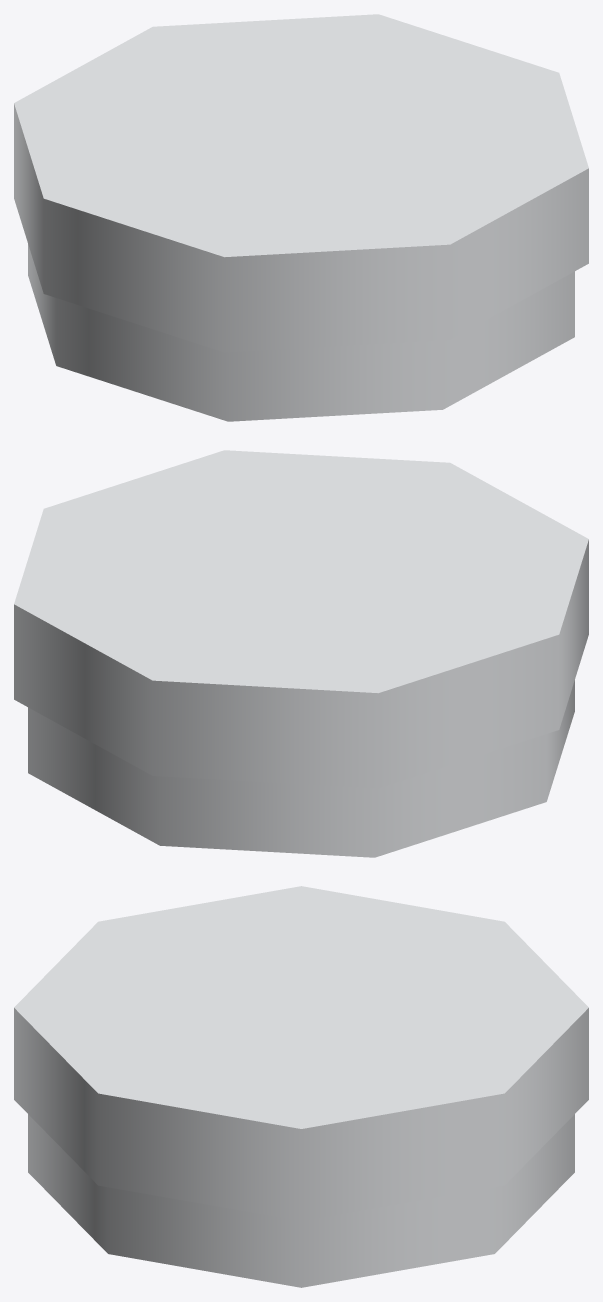
File: Make Up Cream.glb
3 views of the same model, one above another, from view 1: azimuth 30°, elevation 25°; view 2: azimuth 150°, elevation 25°; view 3: azimuth 270°, elevation 25° (orthographic). The views are drawn at different scales.
Parts seen in each view (by area): view 1: make up_cream_lid.003, make up_cream.003; view 2: make up_cream_lid.003, make up_cream.003; view 3: make up_cream_lid.003, make up_cream.003.
Boxes of the visible parts, x1=… form: make up_cream_lid.003: x1=14, y1=14, x2=588, y2=352; make up_cream.003: x1=28, y1=244, x2=574, y2=421; make up_cream_lid.003: x1=14, y1=450, x2=588, y2=788; make up_cream.003: x1=28, y1=680, x2=574, y2=857; make up_cream_lid.003: x1=14, y1=886, x2=588, y2=1220; make up_cream.003: x1=28, y1=1114, x2=574, y2=1287.
Size of the model in its own units: 9 by 2.85 by 9.
Materials: 2 (2 with a texture image).
